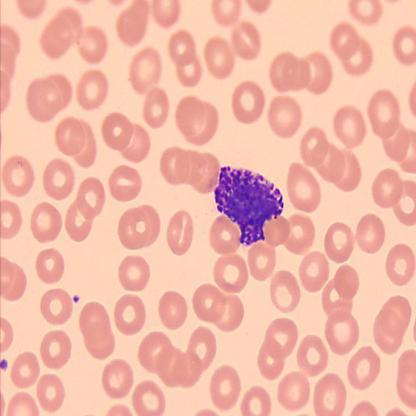Basophil: (212, 162, 285, 248)
